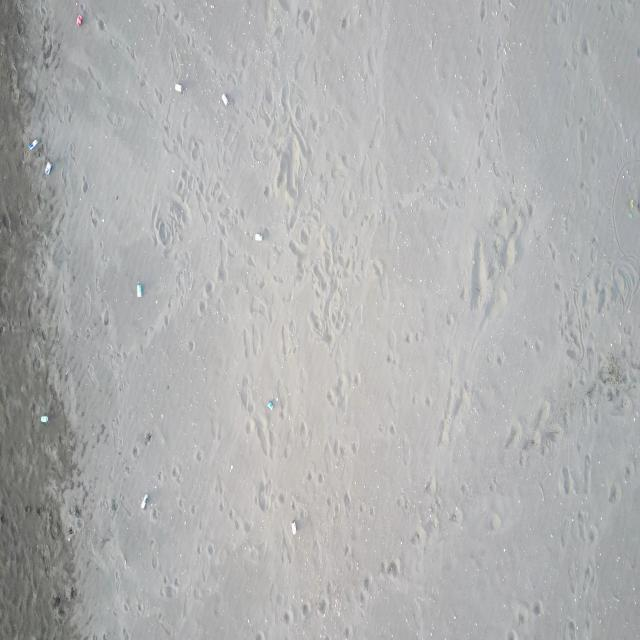Garbage: (627, 199, 639, 218), (140, 493, 148, 508), (44, 160, 51, 175), (136, 281, 143, 296), (75, 13, 83, 26), (27, 140, 37, 150), (220, 92, 227, 104), (253, 232, 263, 240), (291, 520, 296, 535), (173, 83, 181, 91), (628, 199, 636, 207), (266, 400, 273, 409), (41, 415, 48, 422)
